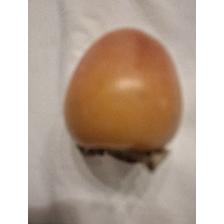Kaki: (61, 22, 186, 174)
